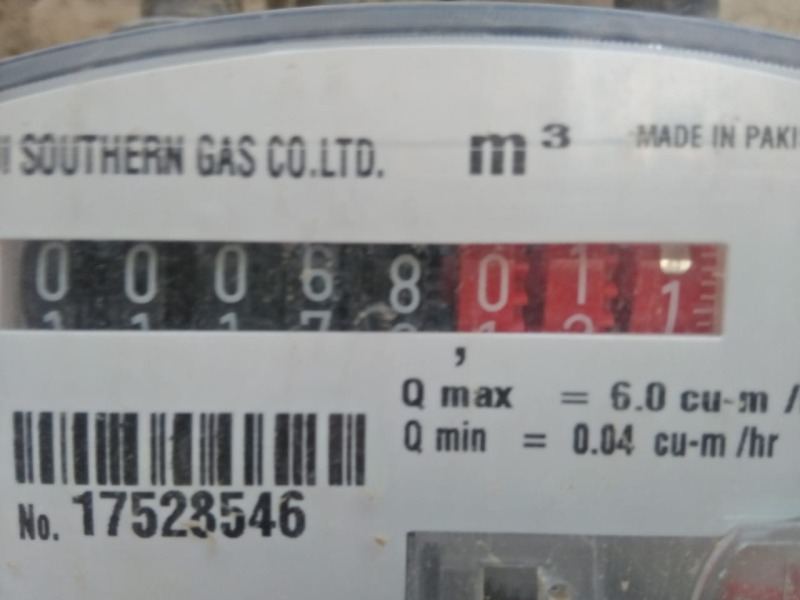ssgc: (4, 235, 725, 340)
